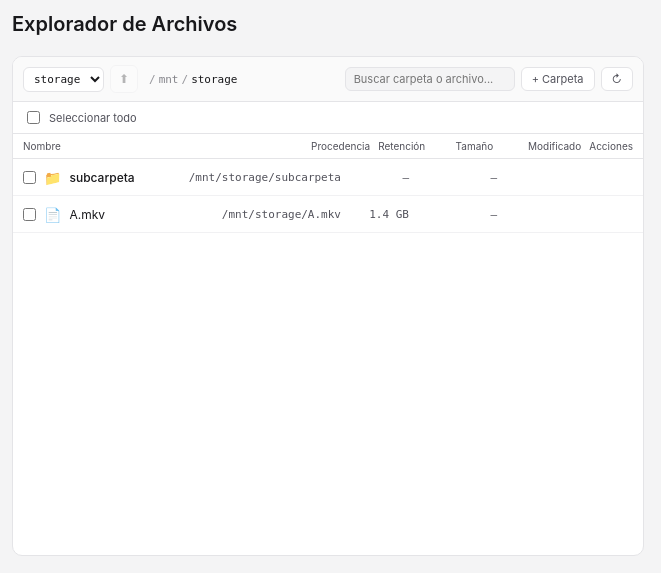
Test: FileManager multi-file selection › clears the selection when navigating into another directory
The image size is (661, 573).
Expected: the text "A.mkv" is shown, [70,206,105,222]
Click the checkbox labelled "Seleccionar todo" at (34, 118), box [27,111,40,124]
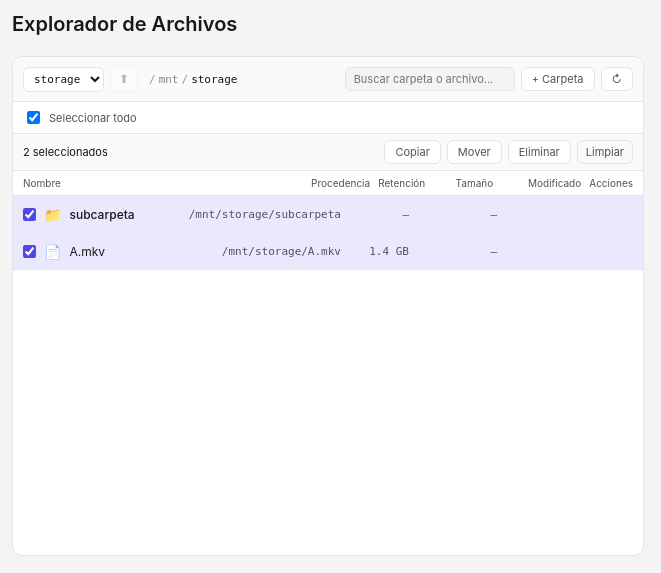
Now the text "2 seleccionados" is shown, box [23,145,108,159]
Double-click the text "subcarpeta" at (102, 214), box [70,206,135,222]
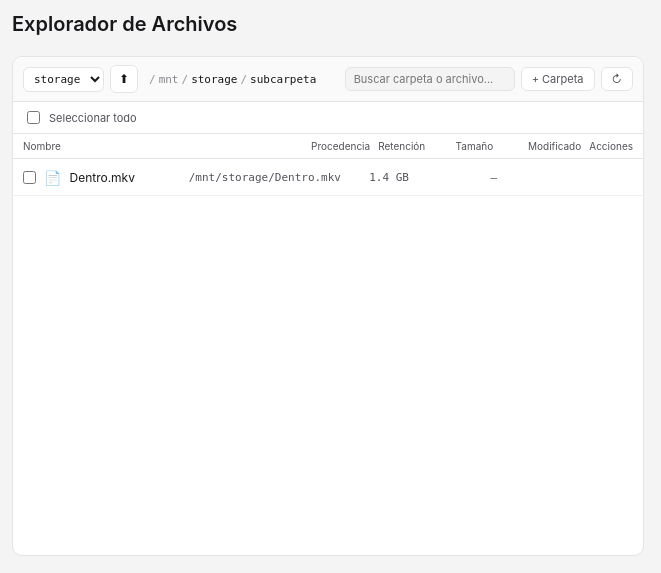
Now the text "Dentro.mkv" is shown, box [70,170,135,184]
Now the text "2 seleccionados" is gone
Now the button "Limpiar" is gone
